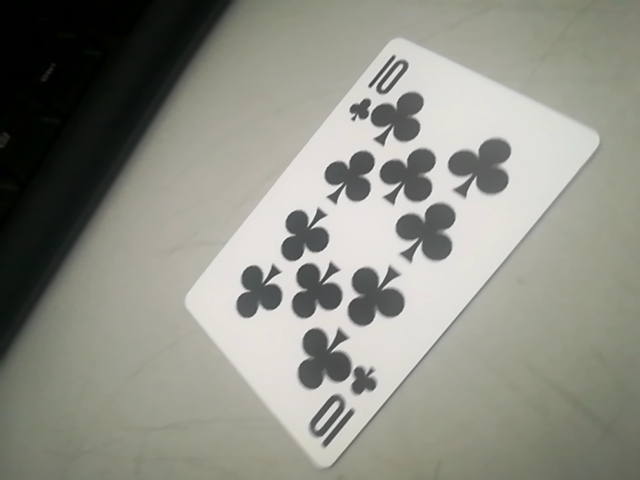mh 10: (181, 40, 615, 479)
